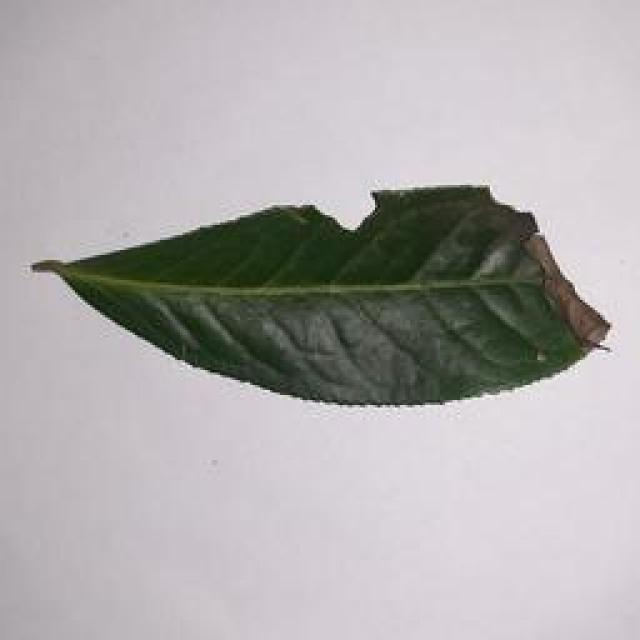Brown Blight: (22, 182, 620, 412)
